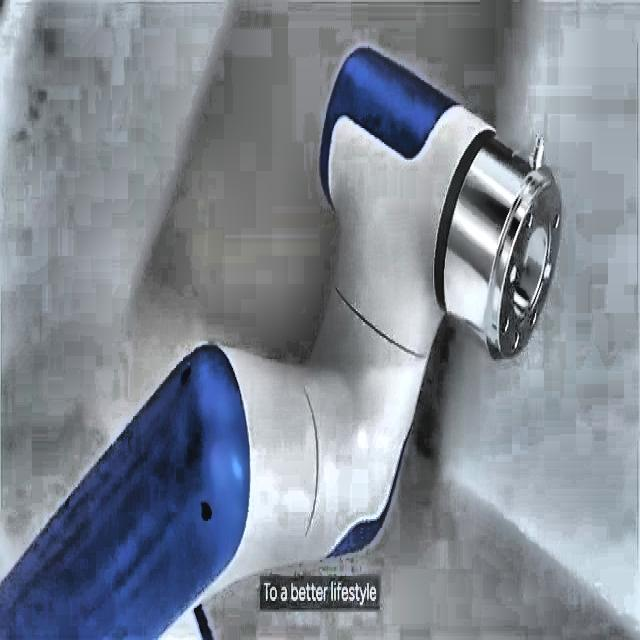robot: (0, 43, 562, 636)
